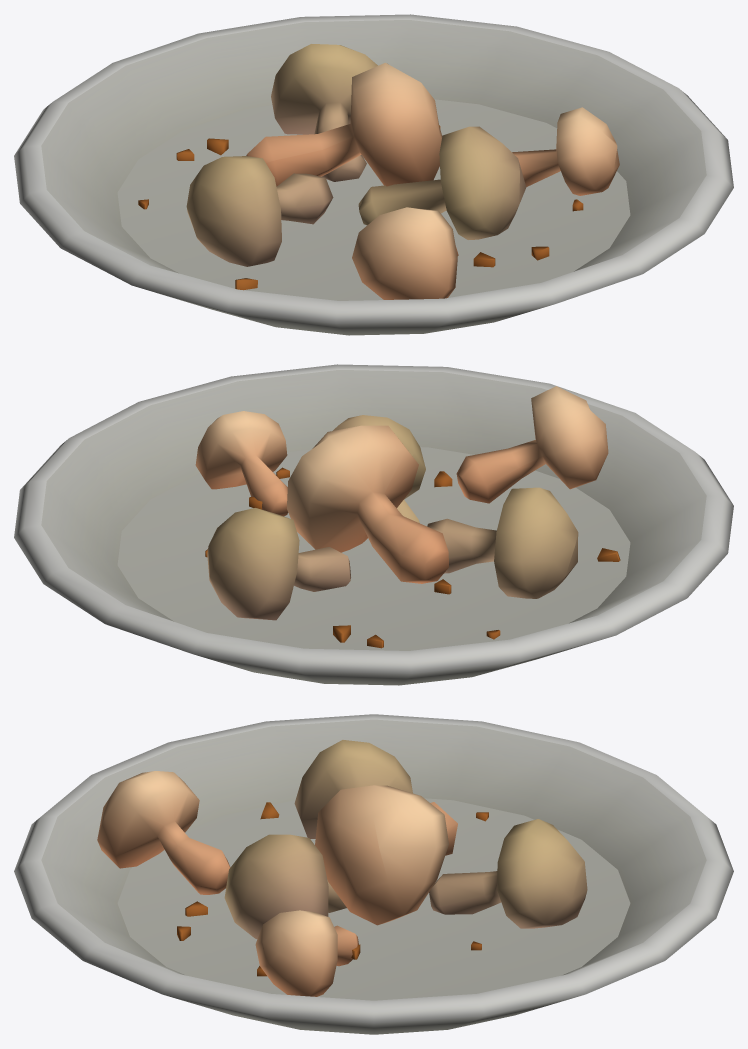
Rendered from mushrooms.glb.
The picture shows the model from 3 angles, top to bottom: view 1: azimuth 30°, elevation 25°; view 2: azimuth 150°, elevation 25°; view 3: azimuth 270°, elevation 25°; orthographic projection.
Parts seen in each view (by area): view 1: SM_Dish_A.001, SM_Food_General_06; view 2: SM_Dish_A.001, SM_Food_General_06; view 3: SM_Dish_A.001, SM_Food_General_06.
Boxes of the visible parts, left/top/right/bottom form: SM_Dish_A.001: left=14, top=14, right=733, bottom=335; SM_Food_General_06: left=138, top=44, right=619, bottom=299; SM_Dish_A.001: left=14, top=364, right=733, bottom=685; SM_Food_General_06: left=195, top=386, right=620, bottom=648; SM_Dish_A.001: left=14, top=714, right=733, bottom=1034; SM_Food_General_06: left=97, top=740, right=587, bottom=996.
Size of the model in its own units: 0.7473 by 0.1768 by 0.7473.
1 material, 1 textured.
